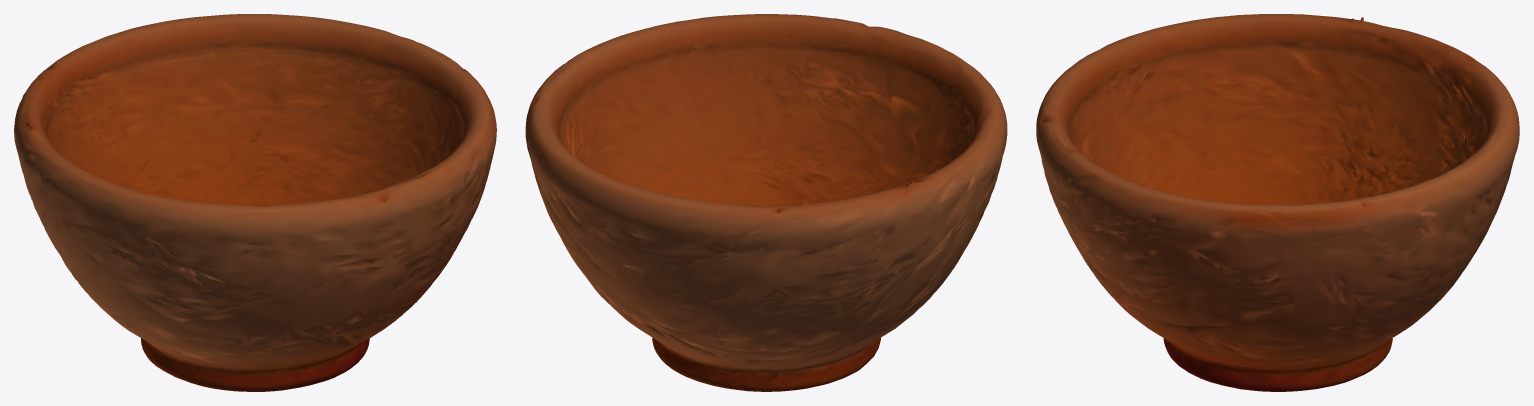
The model's file is copita-r.glb.
3 views of the same model, side by side, from view 1: azimuth 30°, elevation 25°; view 2: azimuth 150°, elevation 25°; view 3: azimuth 270°, elevation 25° (orthographic).
Parts seen in each view (by area): view 1: tripo_node_e6978375-eac7-4ec0-b033-8b302122257b; view 2: tripo_node_e6978375-eac7-4ec0-b033-8b302122257b; view 3: tripo_node_e6978375-eac7-4ec0-b033-8b302122257b.
Boxes of the visible parts, box(x1,y1,x2,y2) form: tripo_node_e6978375-eac7-4ec0-b033-8b302122257b: box(14, 14, 496, 391); tripo_node_e6978375-eac7-4ec0-b033-8b302122257b: box(525, 14, 1007, 391); tripo_node_e6978375-eac7-4ec0-b033-8b302122257b: box(1036, 14, 1519, 391).
Bounding box in the file's own units: 0.9992 × 0.5484 × 0.9999.
1 material, 1 textured.
